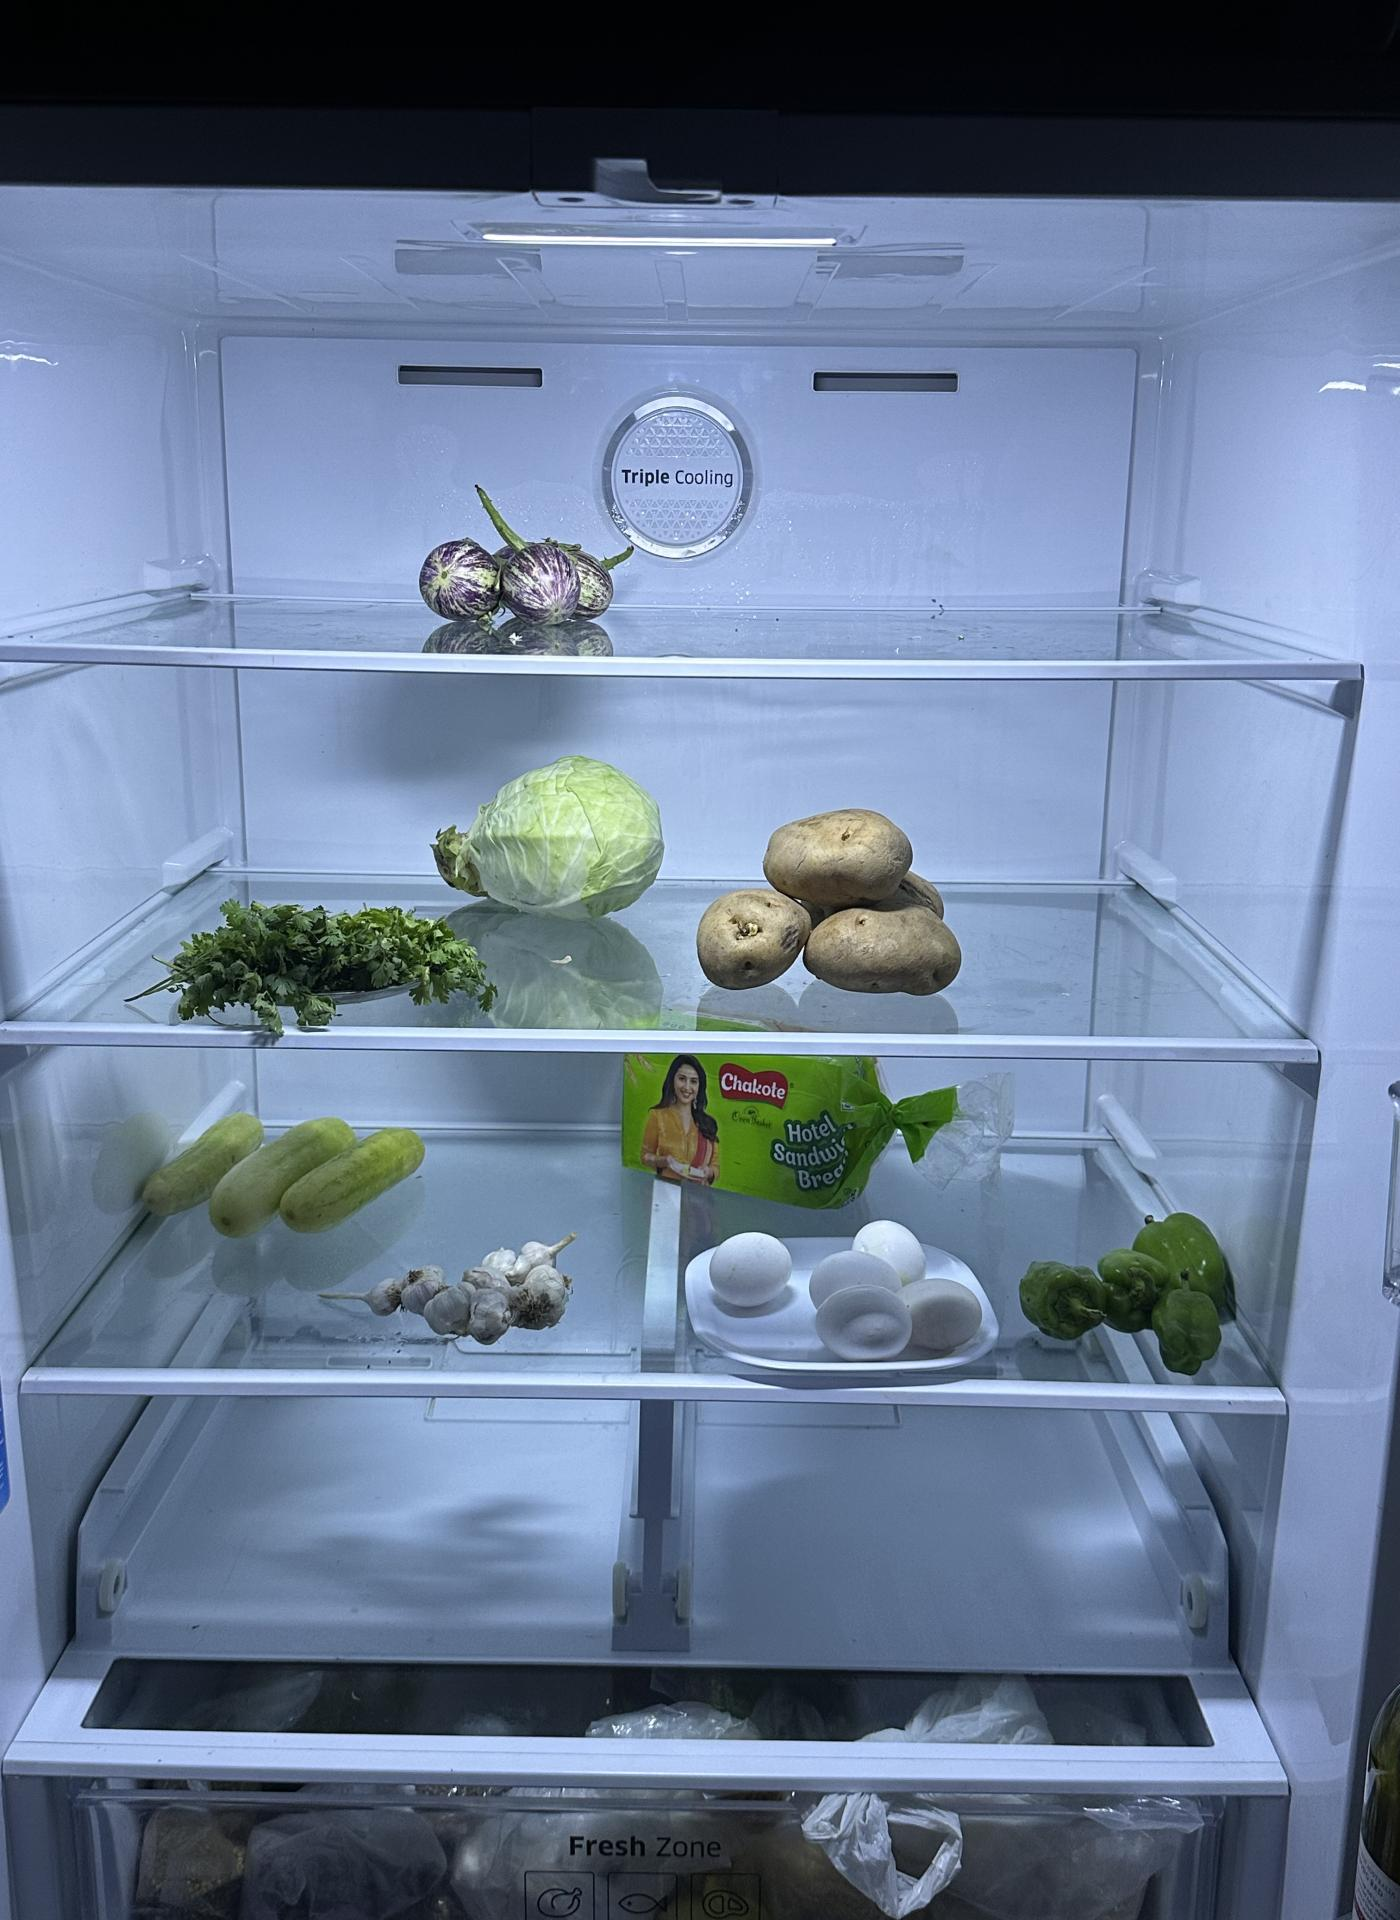bread: (622, 1046, 899, 1210)
brinjal: (404, 535, 628, 635)
cabbage: (437, 759, 665, 929)
capsicum: (1021, 1207, 1245, 1376)
coriander: (174, 903, 482, 1032)
cucumber: (125, 1114, 434, 1248)
egg: (810, 1218, 994, 1360), (696, 1201, 799, 1334)
garlic: (361, 1231, 576, 1345)
